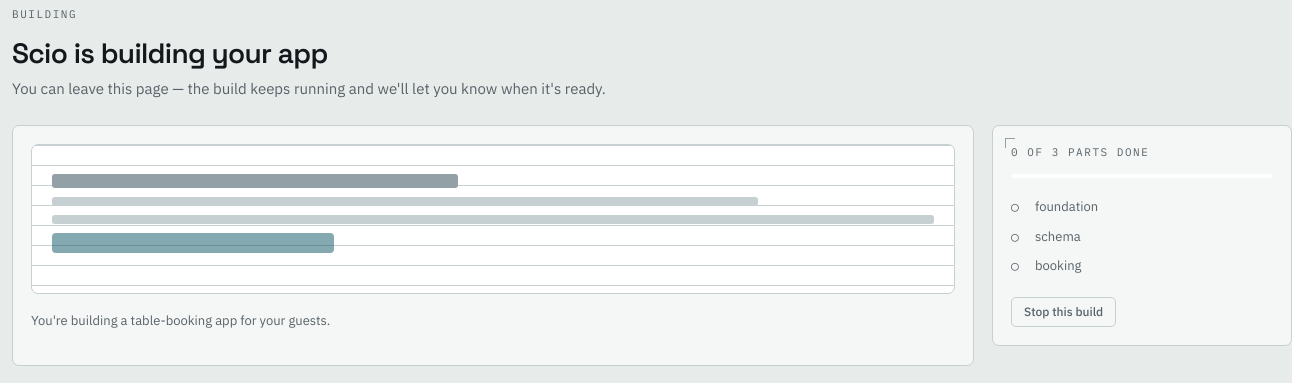
Test: Build view › offers a way out of a build heading somewhere wrong
What coordinates should you click on to do the following:
click the button "Stop this build"
I would click on:
 (1064, 312)
Its box is x1=1011 y1=296 x2=1116 y2=326.
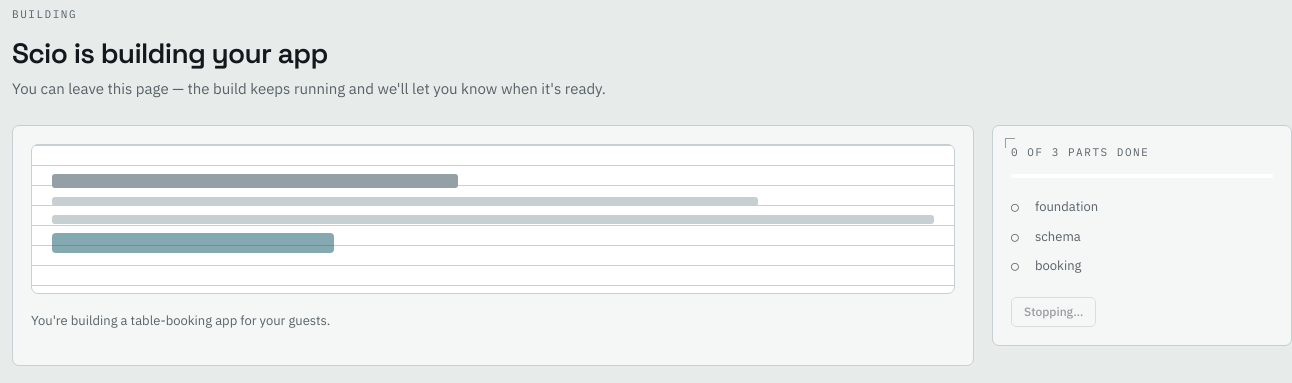
Expected: the button "Stopping…" is shown, x1=1011 y1=296 x2=1096 y2=326
